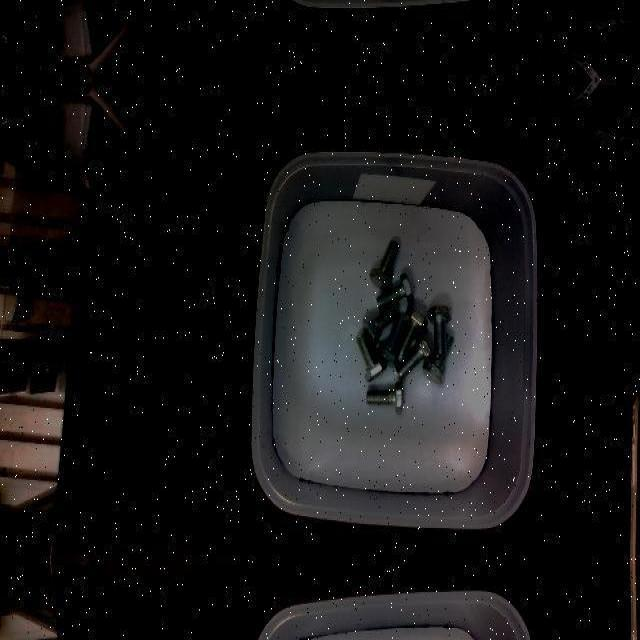screw: (395, 332, 433, 380), (369, 239, 400, 289), (356, 331, 387, 381), (397, 307, 428, 357), (375, 271, 414, 309), (362, 306, 398, 346), (427, 303, 451, 357), (366, 381, 403, 415)
